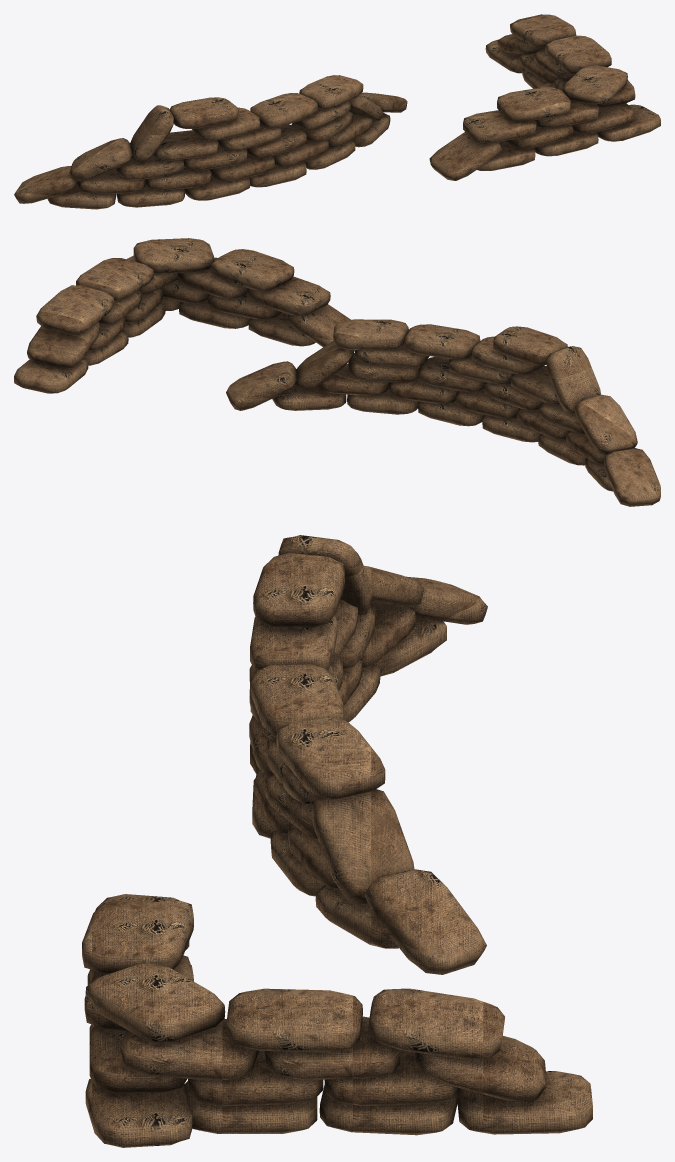
File: sandbags.glb
3 renders of one model, top to bottom at view 1: azimuth 30°, elevation 25°; view 2: azimuth 150°, elevation 25°; view 3: azimuth 270°, elevation 25°, orthographic. The views are drawn at different scales.
Parts seen in each view (by area): view 1: sandbags 1, sandbags 2; view 2: sandbags 1, sandbags 2; view 3: sandbags 2, sandbags 1.
Boxes of the visible parts, x1=… form: sandbags 1: x1=14, y1=75, x2=407, y2=209; sandbags 2: x1=429, y1=14, x2=660, y2=180; sandbags 1: x1=226, y1=319, x2=660, y2=506; sandbags 2: x1=14, y1=238, x2=350, y2=393; sandbags 2: x1=82, y1=894, x2=592, y2=1147; sandbags 1: x1=249, y1=535, x2=487, y2=974.
Size of the model in its own units: 6.43 by 0.9923 by 2.52.
Materials: 2 (2 with a texture image).
